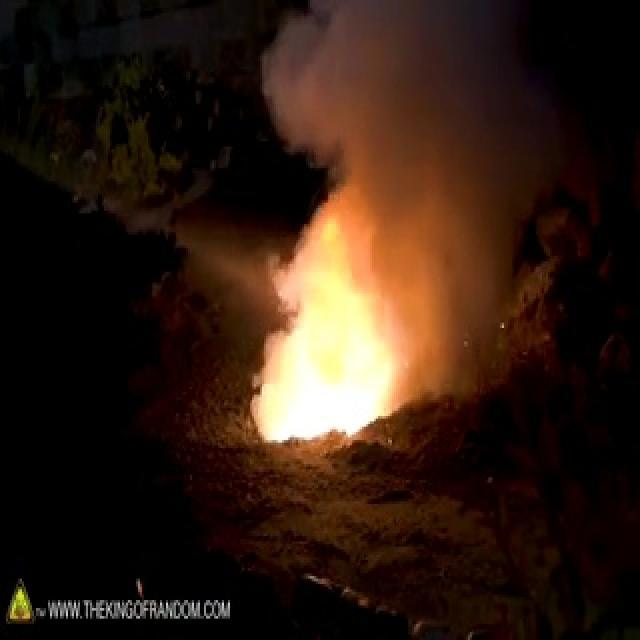fire: (243, 232, 411, 446)
